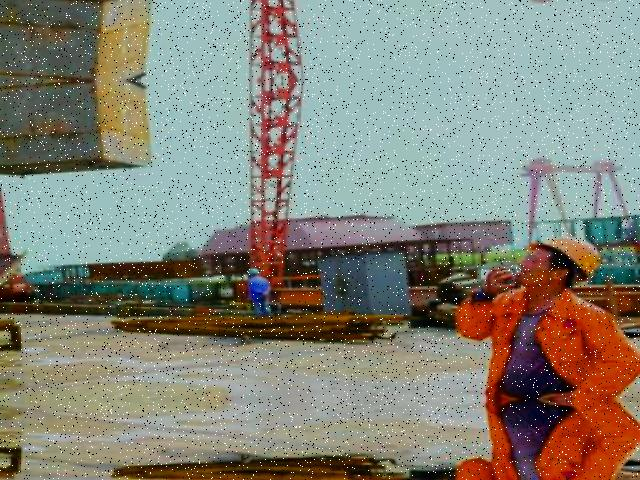Helmet: (523, 230, 602, 284)
